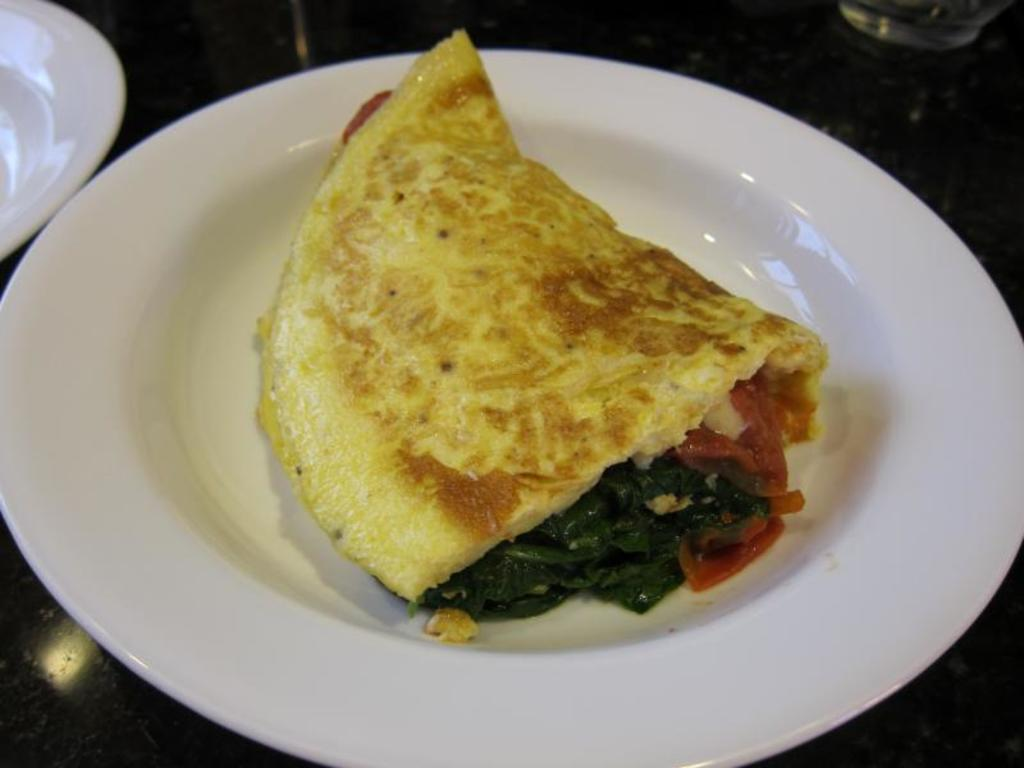plate: (0, 49, 1023, 767)
